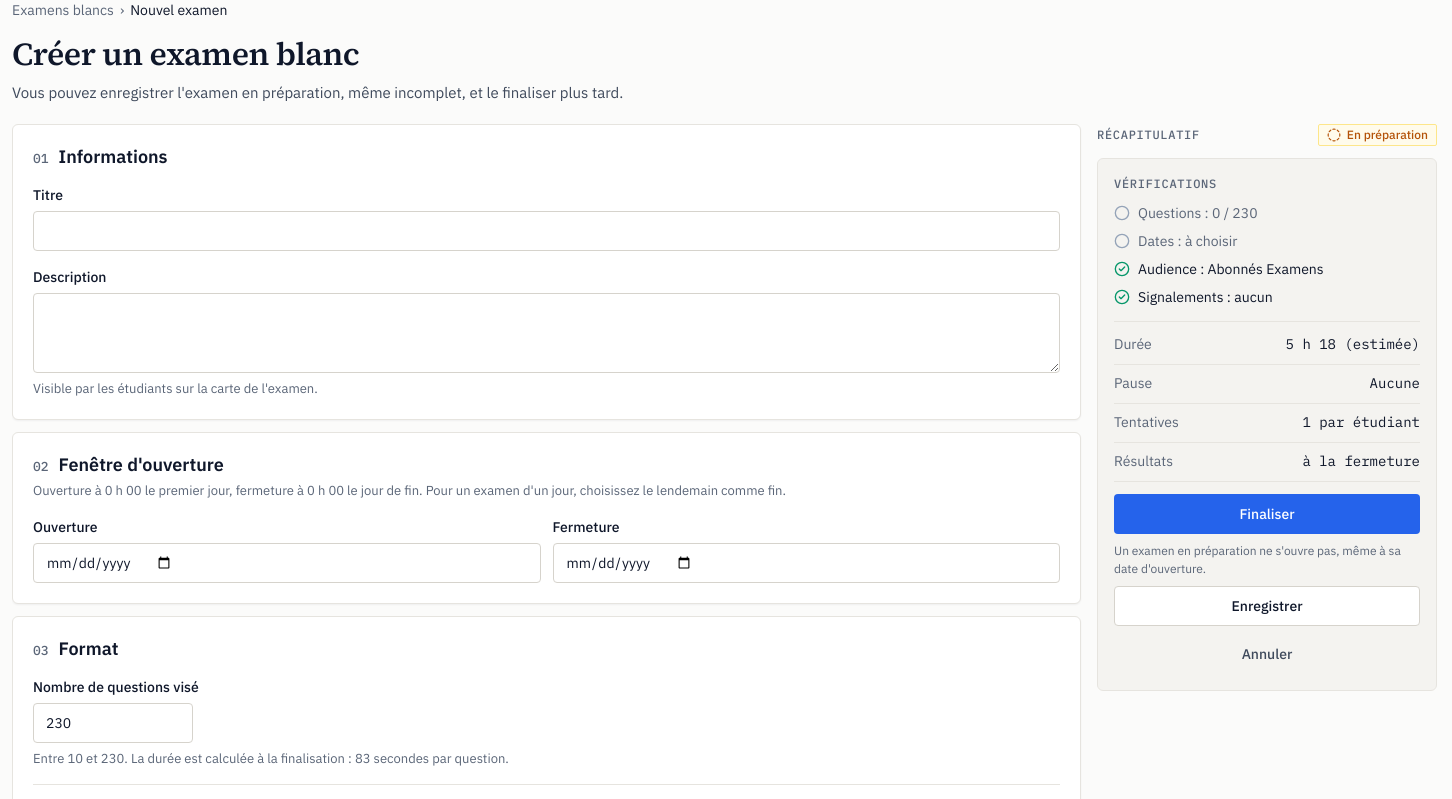
Test case: ExamForm — nouvel examen › « Enregistrer » sans titre signale le champ sans rien envoyer
Click the button with test id "btn-save-exam" at (1267, 606), box [1114, 586, 1420, 626]
(page scrolled)
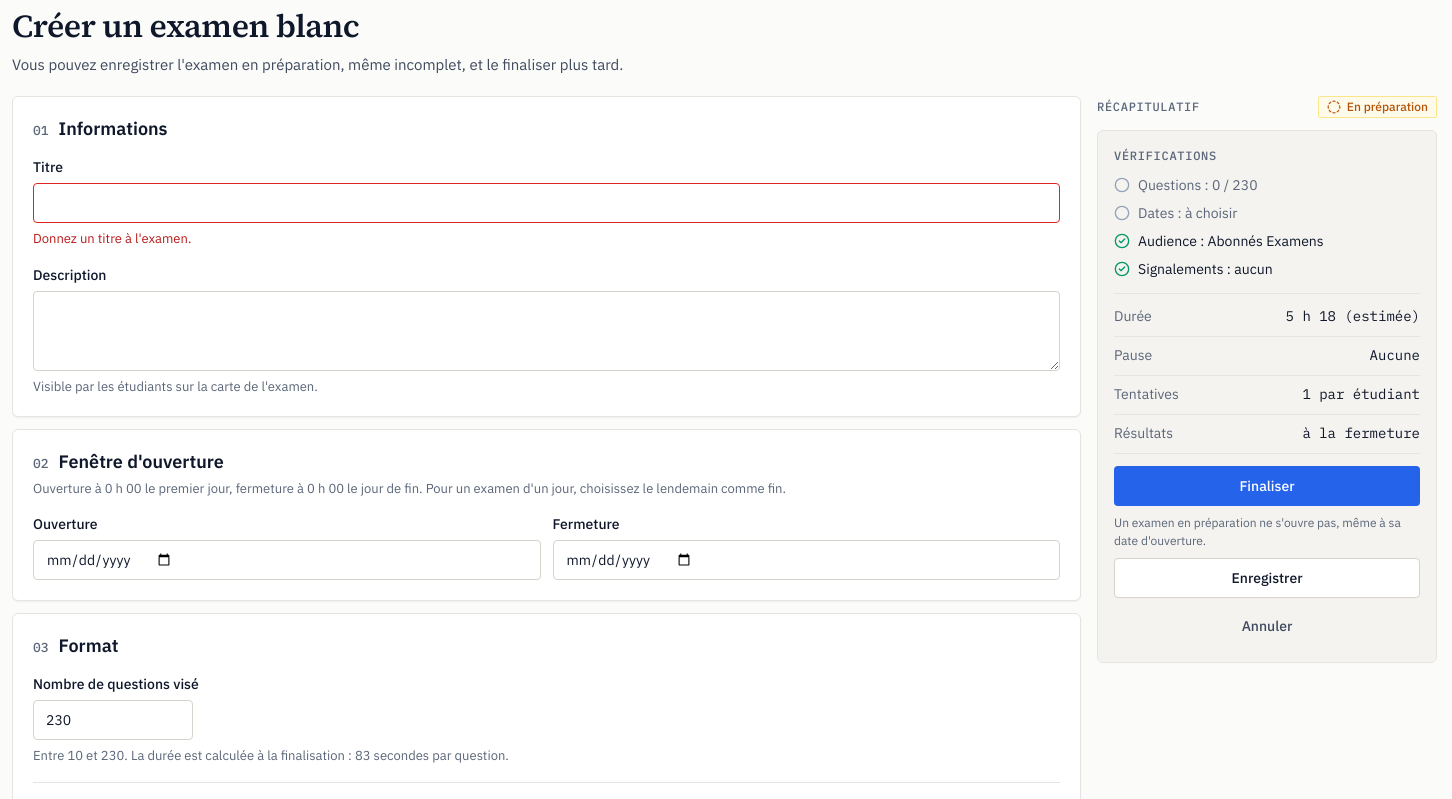
Result: the text with test id "exam-title-error" reads "Donnez un titre à l'examen." at [33, 230, 191, 247]
